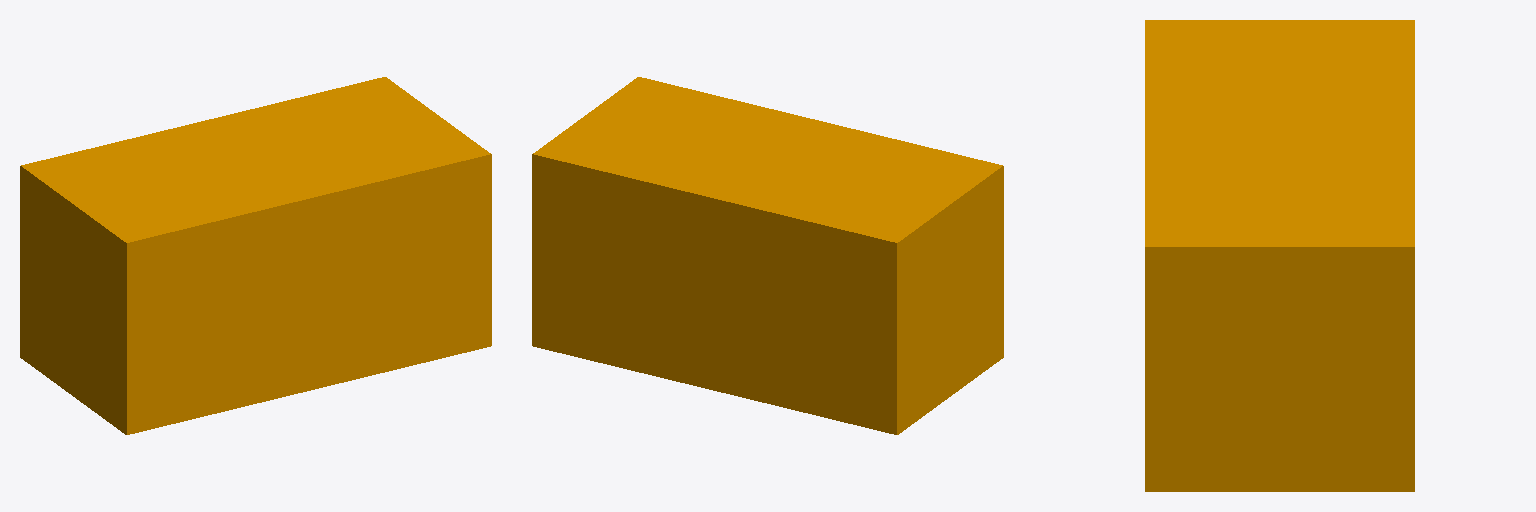
robot.urdf — 1_2I_0:
<robot name="1_2I_0">
  <link name="link">
    <visual>
      <geometry>
        <mesh filename="1_2I_0.obj" scale="1 1 1"/>
      </geometry>
    </visual>
    <collision>
      <geometry>
        <mesh filename="1_2I_0.obj" scale="1 1 1"/>
      </geometry>
    </collision>
    <inertial>
      <mass value="1"/>
      <inertia ixx="1" iyy="1" izz="1" ixy="0" ixz="0" iyz="0"/>
      <origin xyz="0 0 0" rpy="0 0 0"/>
    </inertial>
  </link>
</robot>

--- Render facts (derived) ---
The picture shows the robot from 3 angles, left to right: view 1: azimuth 30°, elevation 25°; view 2: azimuth 150°, elevation 25°; view 3: azimuth 270°, elevation 25°; orthographic projection.
Robot: 1_2I_0 — 1 links, 0 joints (none); root link link; default pose: every joint at zero.
Visible links, largest first — view 1: link; view 2: link; view 3: link.
Link boxes in pixels (<box>): link: <box>20,77,491,434</box>; link: <box>532,77,1003,434</box>; link: <box>1145,20,1414,491</box>.
Size in the robot's own frame: 0.1175 by 0.0591 by 0.0591 metres.
1 mesh visuals loaded from 1 distinct referenced files (1 OBJ).